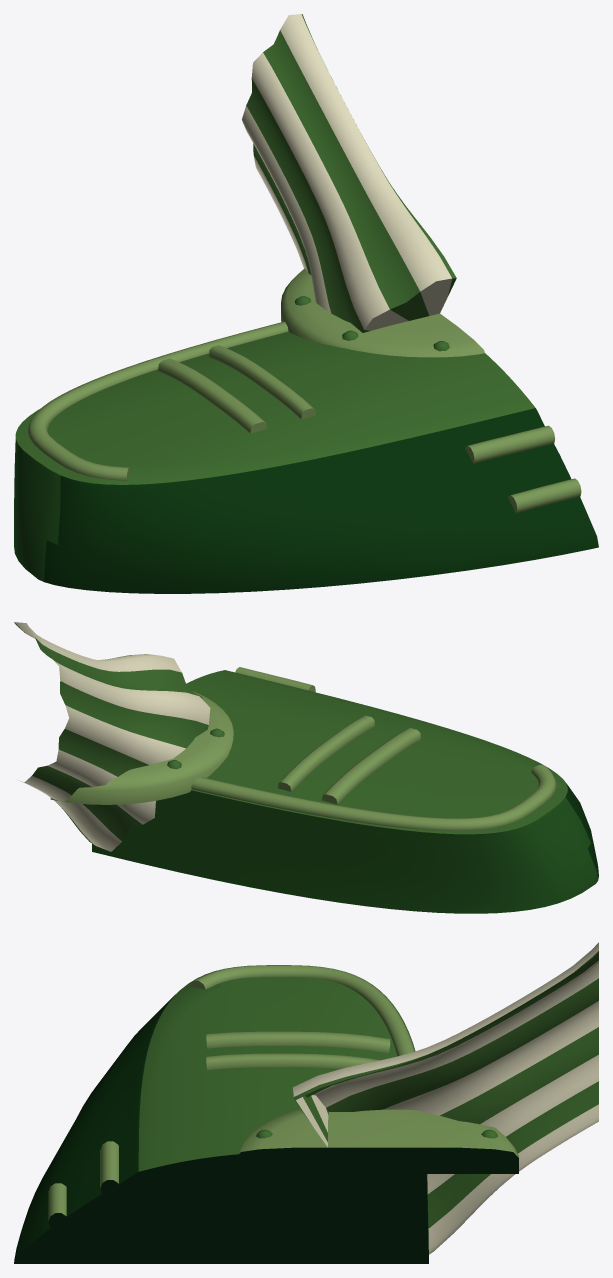
The model's file is green_tower_bl.glb.
3 views of the same model, one above another, from view 1: azimuth 30°, elevation 25°; view 2: azimuth 150°, elevation 25°; view 3: azimuth 270°, elevation 25° (orthographic). The views are drawn at different scales.
Visible parts, largest first — view 1: plate.001, stem.001, flange.001, lip.001, rib-1_0.001, rib-1_1.001, front_bar0.001, front_bar1.001; view 2: plate.001, stem.001, flange.001, lip.001, rib-1_0.001, rib-1_1.001, front_bar0.001; view 3: plate.001, stem.001, flange.001, lip.001, rib-1_0.001, rib-1_1.001, front_bar0.001, front_bar1.001.
Part boxes in pixels (x1=…): plate.001: x1=14, y1=331, x2=598, y2=593; stem.001: x1=242, y1=14, x2=456, y2=332; flange.001: x1=281, y1=268, x2=484, y2=357; lip.001: x1=27, y1=321, x2=288, y2=480; rib-1_0.001: x1=158, y1=358, x2=267, y2=433; rib-1_1.001: x1=209, y1=345, x2=315, y2=419; front_bar0.001: x1=465, y1=425, x2=554, y2=463; front_bar1.001: x1=508, y1=478, x2=581, y2=513; plate.001: x1=92, y1=670, x2=598, y2=913; stem.001: x1=14, y1=622, x2=210, y2=851; flange.001: x1=50, y1=691, x2=233, y2=804; lip.001: x1=191, y1=765, x2=556, y2=830; rib-1_0.001: x1=322, y1=728, x2=420, y2=804; rib-1_1.001: x1=278, y1=715, x2=374, y2=791; front_bar0.001: x1=235, y1=667, x2=315, y2=692; plate.001: x1=14, y1=968, x2=428, y2=1263; stem.001: x1=292, y1=942, x2=598, y2=1254; flange.001: x1=235, y1=1109, x2=518, y2=1173; lip.001: x1=190, y1=965, x2=424, y2=1176; rib-1_0.001: x1=206, y1=1031, x2=390, y2=1053; rib-1_1.001: x1=206, y1=1053, x2=379, y2=1070; front_bar0.001: x1=100, y1=1141, x2=119, y2=1196; front_bar1.001: x1=48, y1=1183, x2=68, y2=1230.
Size of the model in its own units: 21.9 by 14.72 by 24.78.
